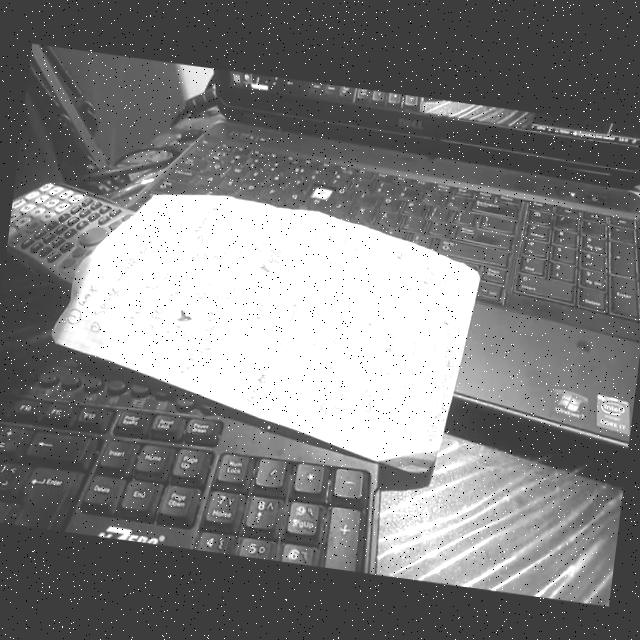document: (52, 191, 479, 475)
